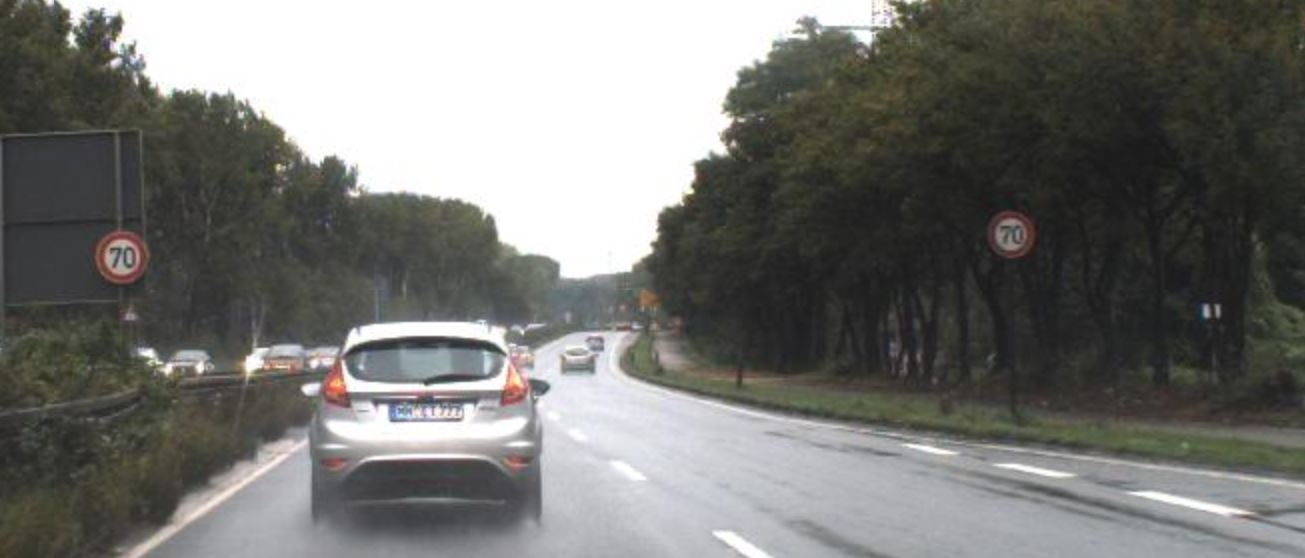70 Km Hiz Siniri: (96, 231, 150, 284), (990, 214, 1037, 259)
